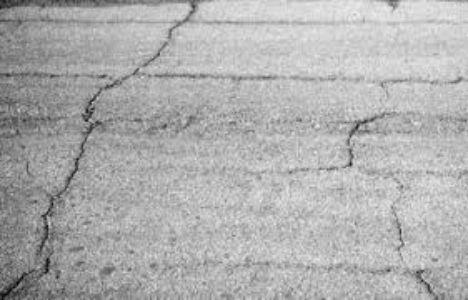crack: (296, 100, 468, 300), (1, 69, 128, 300), (135, 65, 468, 93), (218, 14, 462, 32), (143, 3, 214, 58), (7, 13, 134, 30)
